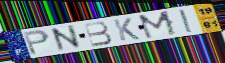B: (82, 21, 114, 48)
I: (177, 8, 195, 34)
K: (112, 17, 142, 42)
M: (137, 10, 179, 40)
N: (48, 24, 84, 53)
P: (22, 29, 51, 57)
